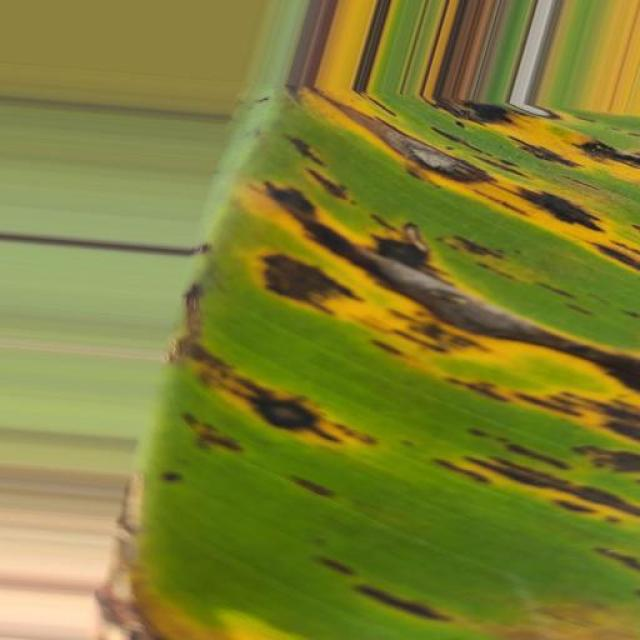Early_rust: (80, 75, 640, 640)
